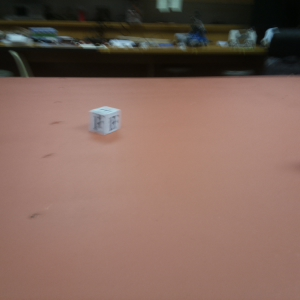blockF: (90, 105, 119, 135)
